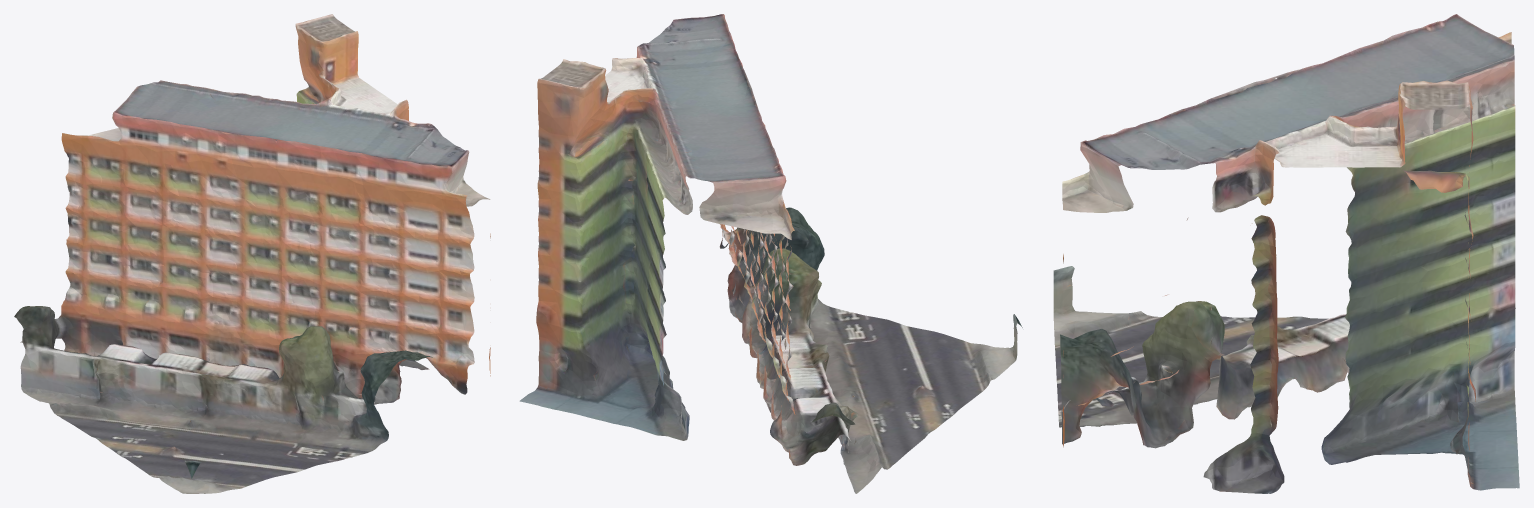
File: Tile_+011_+008_L21_0000023300.glb
3 renders of one model, left to right at view 1: azimuth 30°, elevation 25°; view 2: azimuth 150°, elevation 25°; view 3: azimuth 270°, elevation 25°, orthographic. The views are drawn at different scales.
Parts seen in each view (by area): view 1: rtc; view 2: rtc; view 3: rtc.
Boxes of the visible parts, left/top/right/bottom form: rtc: left=14, top=14, right=490, bottom=493; rtc: left=519, top=14, right=1022, bottom=493; rtc: left=1053, top=14, right=1519, bottom=493.
Bounding box in the file's own units: 32.61 × 31.23 × 32.02.
Materials: 1 (1 with a texture image).
